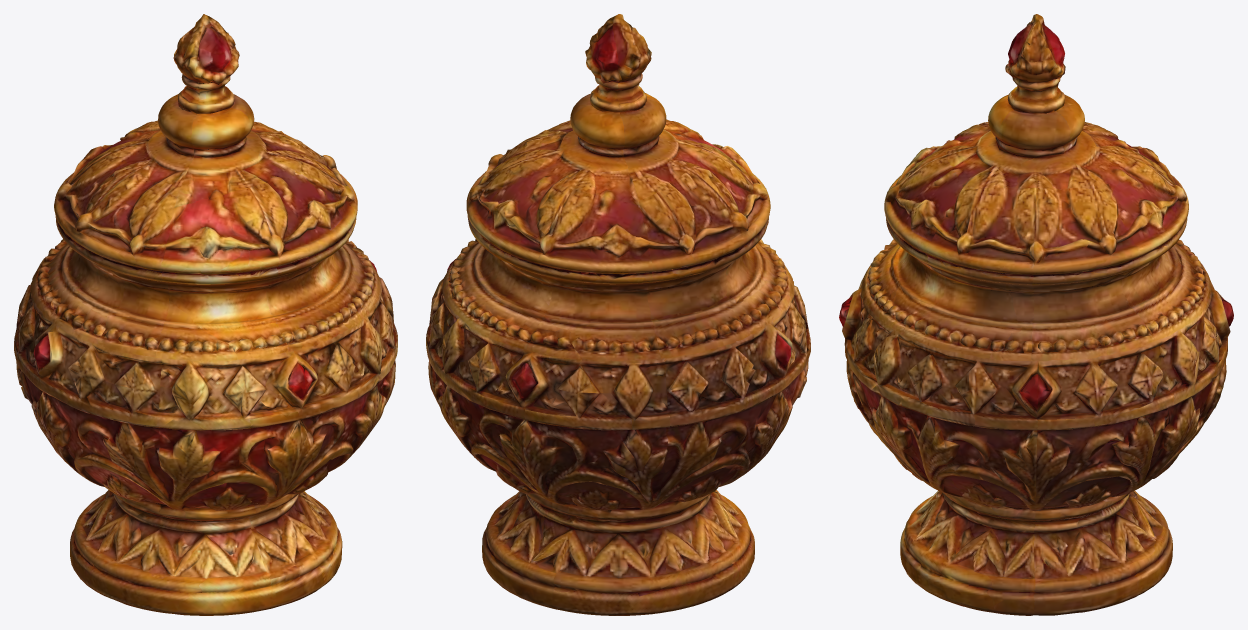
Rendered from myrrh.glb.
The picture shows the model from 3 angles, left to right: view 1: azimuth 30°, elevation 25°; view 2: azimuth 150°, elevation 25°; view 3: azimuth 270°, elevation 25°; orthographic projection.
Parts seen in each view (by area): view 1: tripo_node_d697f1b9-e0df-4f05-b5ad-69928eb5501c; view 2: tripo_node_d697f1b9-e0df-4f05-b5ad-69928eb5501c; view 3: tripo_node_d697f1b9-e0df-4f05-b5ad-69928eb5501c.
Boxes of the visible parts, x1=… form: tripo_node_d697f1b9-e0df-4f05-b5ad-69928eb5501c: x1=14, y1=14, x2=397, y2=615; tripo_node_d697f1b9-e0df-4f05-b5ad-69928eb5501c: x1=426, y1=14, x2=810, y2=615; tripo_node_d697f1b9-e0df-4f05-b5ad-69928eb5501c: x1=839, y1=14, x2=1233, y2=615.
Bounding box in the file's own units: 0.6365 × 0.9786 × 0.6411.
Materials: 1 (1 with a texture image).
